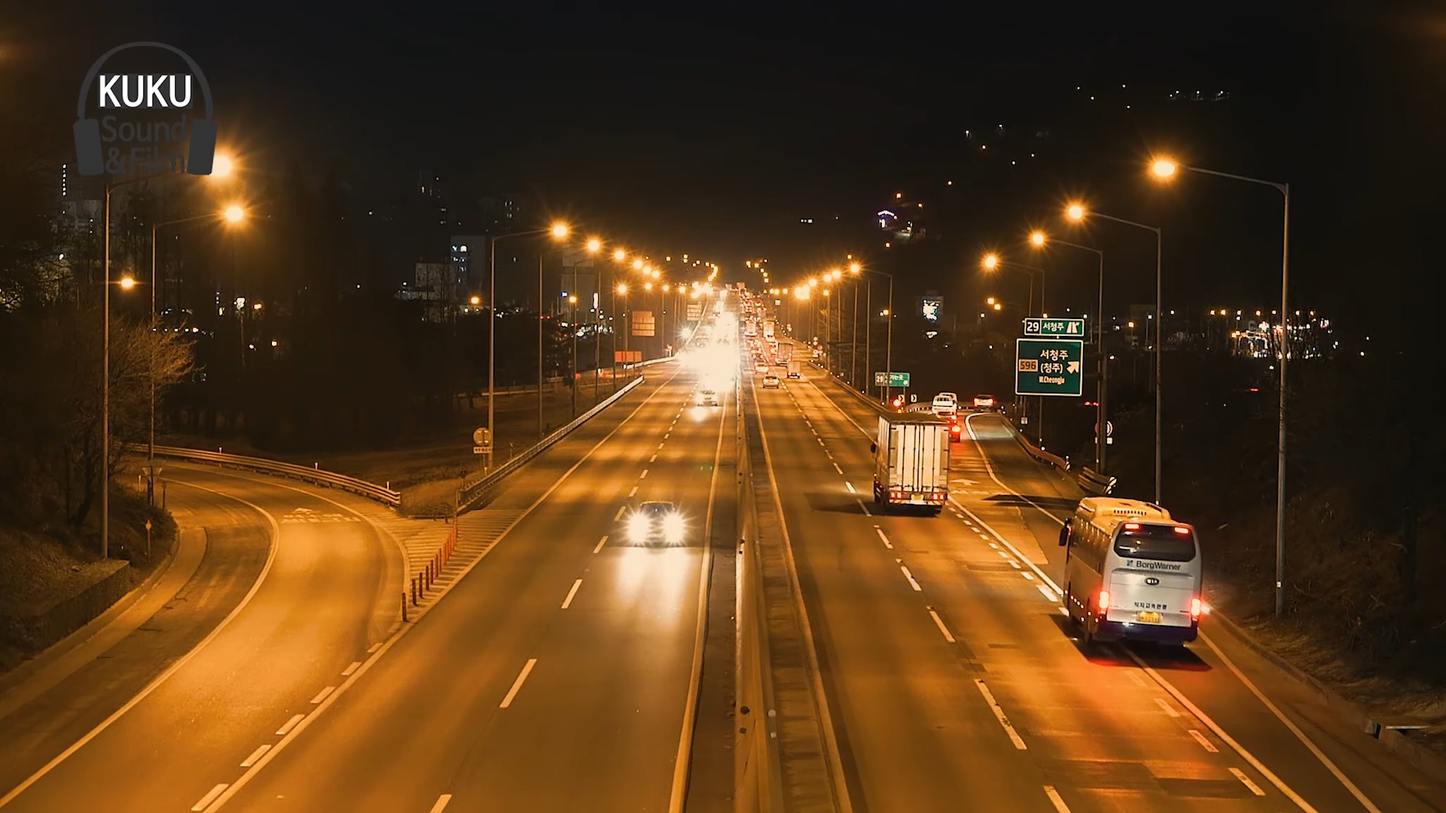car: (1059, 491, 1209, 652)
truck: (872, 411, 959, 521)
